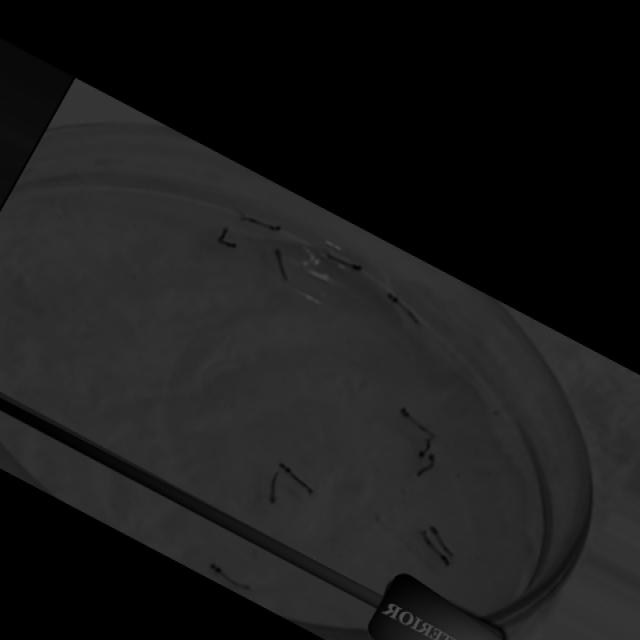larvas: (209, 555, 256, 596), (280, 459, 315, 497), (428, 520, 457, 561), (421, 528, 450, 565), (403, 404, 435, 437), (389, 291, 418, 323), (243, 212, 282, 232), (329, 252, 364, 271), (269, 467, 280, 506), (276, 248, 289, 280), (220, 227, 236, 248), (418, 454, 434, 473), (419, 440, 433, 459)
